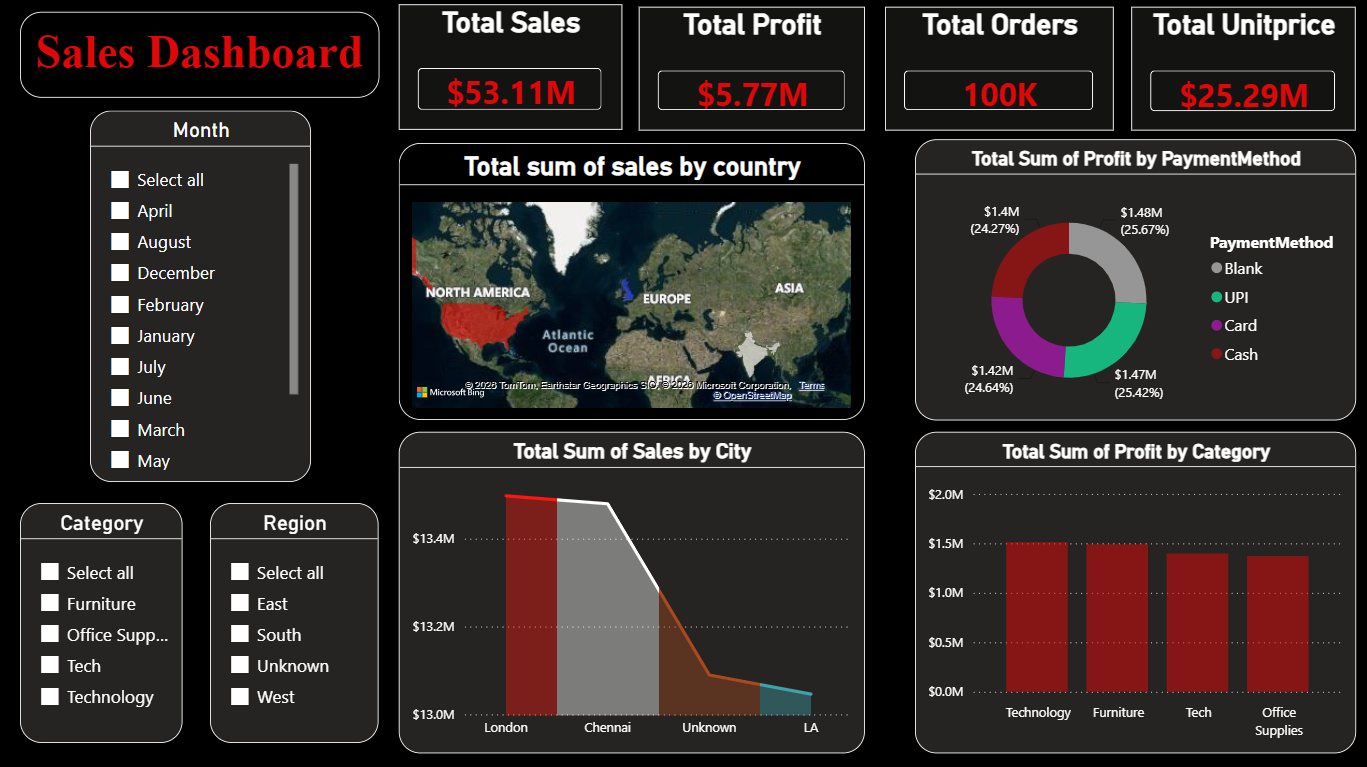

This screenshot's page, from the dashboard's own definition file:
{"tool":"powerbi","page":{"name":"Page 1","canvas":[1280,720],"ordinal":0},"visuals":[{"type":"cardVisual","title":"Total Profit","fields":{"Data":["Sum(powerbi_project.Profit)"]},"box":[594.4,7.8,210,114.4],"z":0},{"type":"cardVisual","title":"Total Unitprice","fields":{"Data":["Sum(powerbi_project.UnitPrice)"]},"box":[1052.2,7.8,208.9,115.6],"z":1000},{"type":"cardVisual","title":"Total Sales","fields":{"Data":["Sum(powerbi_project.Sales)"]},"box":[371.1,5.6,207.8,116.7],"z":2000},{"type":"cardVisual","title":"Total Orders","fields":{"Data":["powerbi_project.Total Orders"]},"box":[815.6,7.8,213.3,114.4],"z":3000},{"type":"areaChart","title":"Total Sum of Sales by City","fields":{"Category":["powerbi_project.City"],"Y":["Sum(powerbi_project.Sales)"]},"box":[371.1,403.3,433.3,298.9],"z":4000},{"type":"donutChart","title":"Total Sum of Profit by PaymentMethod","fields":{"Category":["powerbi_project.PaymentMethod"],"Y":["Sum(powerbi_project.Profit)"]},"box":[851.1,131.1,410.5,261.6],"z":5000},{"type":"columnChart","title":"Total Sum of Profit by Category","fields":{"Category":["powerbi_project.Category"],"Y":["Sum(powerbi_project.Profit)"]},"box":[851.1,403.3,410.5,298.8],"z":6000},{"type":"textbox","box":[18.9,13.3,334.4,80],"z":7000},{"type":"slicer","title":"Month","fields":{"Values":["powerbi_project.Month"]},"box":[83.3,104.4,205.6,345.6],"z":9000},{"type":"slicer","title":"Region","fields":{"Values":["powerbi_project.Region"]},"box":[195.6,470,156.7,223.3],"z":10000},{"type":"slicer","title":"Category","fields":{"Values":["powerbi_project.Category"]},"box":[18.9,470,151.1,223.3],"z":11000},{"type":"filledMap","title":"Total sum of sales by country","fields":{"Category":["powerbi_project.Country"]},"box":[371.1,134.4,433.3,257.8],"z":12000}]}

Visuals, with their boxes in screenshot pixels (x1, y1, x2, y2), scaled from the page's 1280x720 canvas onto the 1367x767 screenshot:
"Total Profit" cardVisual: bbox=[635, 8, 859, 130]
"Total Unitprice" cardVisual: bbox=[1124, 8, 1347, 131]
"Total Sales" cardVisual: bbox=[396, 6, 618, 130]
"Total Orders" cardVisual: bbox=[871, 8, 1099, 130]
"Total Sum of Sales by City" areaChart: bbox=[396, 430, 859, 748]
"Total Sum of Profit by PaymentMethod" donutChart: bbox=[909, 140, 1347, 418]
"Total Sum of Profit by Category" columnChart: bbox=[909, 430, 1347, 748]
textbox: bbox=[20, 14, 377, 99]
"Month" slicer: bbox=[89, 111, 309, 479]
"Region" slicer: bbox=[209, 501, 376, 739]
"Category" slicer: bbox=[20, 501, 182, 739]
"Total sum of sales by country" filledMap: bbox=[396, 143, 859, 418]
